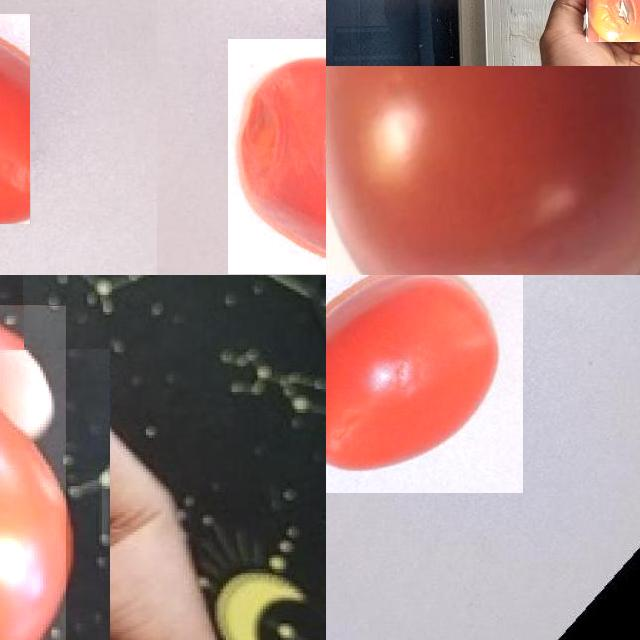0: (326, 275, 523, 493)
1: (228, 39, 326, 274)
Fresh Tomato: (326, 66, 640, 275), (0, 305, 66, 640)
Rotten Tomato: (586, 0, 640, 42)
